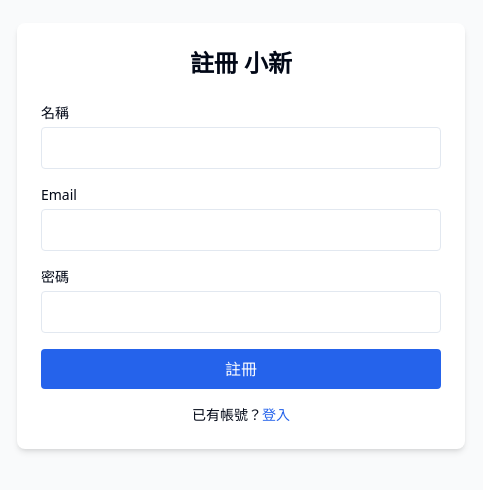
RegisterPage › shows network error on exception
Step 1. Type "User" into the field below "名稱" → point(241, 148), box left=41, top=127, right=441, bottom=169
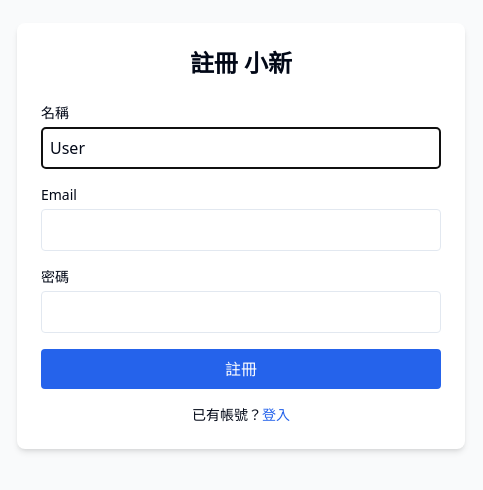
Step 2. Type "a@b.com" into the field below "Email" → point(241, 230), box left=41, top=209, right=441, bottom=251
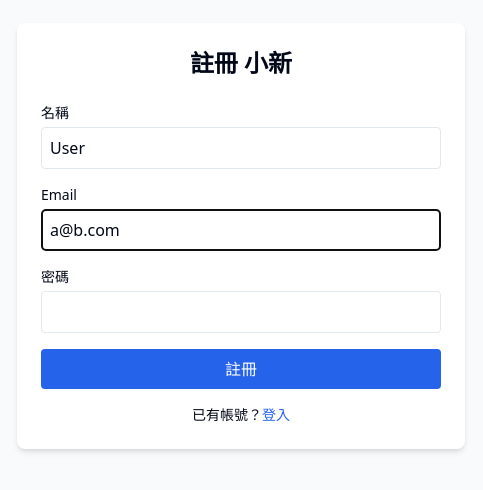
Step 3. Type "pass" into the password field → point(241, 312), box left=41, top=291, right=441, bottom=333
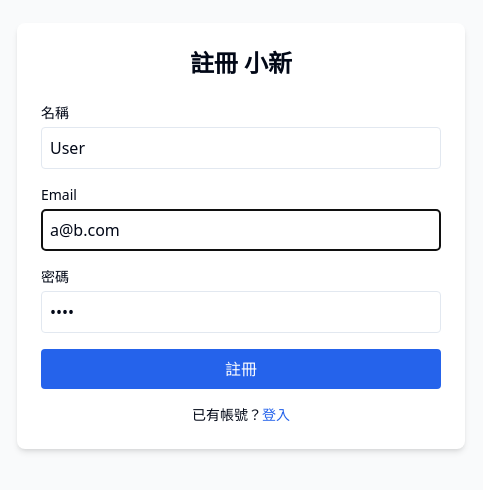
Step 4. Submit the form with test id "register-form", box left=41, top=103, right=441, bottom=389
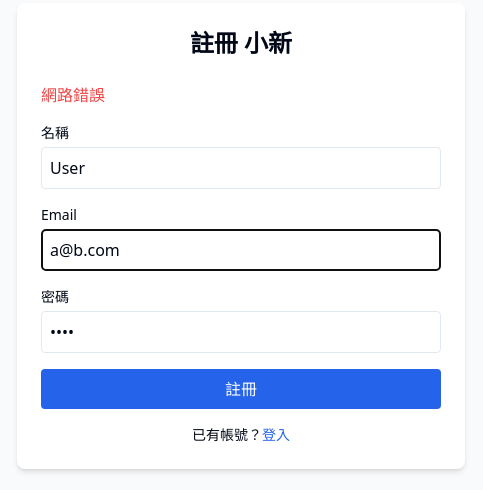
Check: the text "網路錯誤" is shown, box left=41, top=84, right=105, bottom=106
